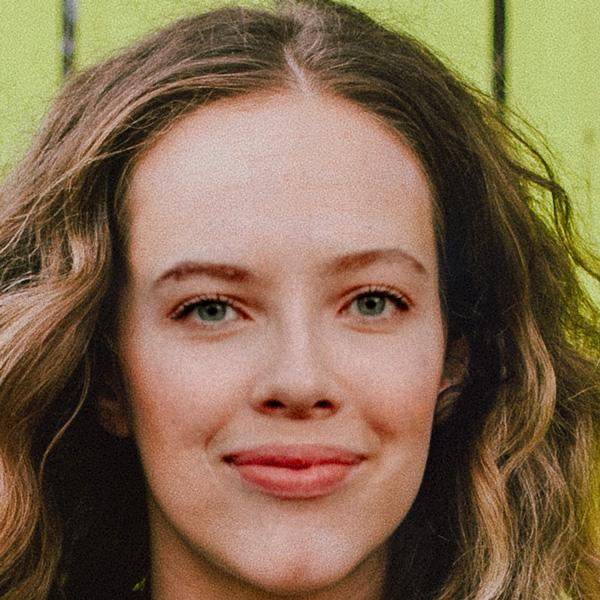Eyes: (326, 274, 420, 338), (161, 281, 259, 342)
